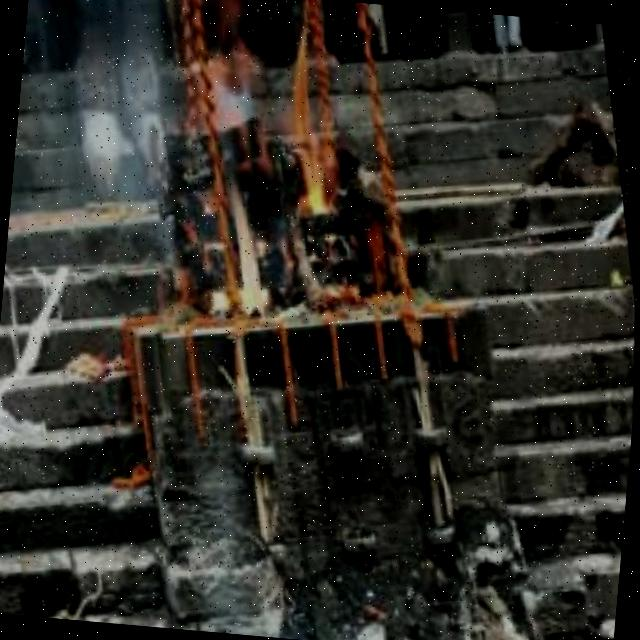fire: (171, 32, 389, 344)
